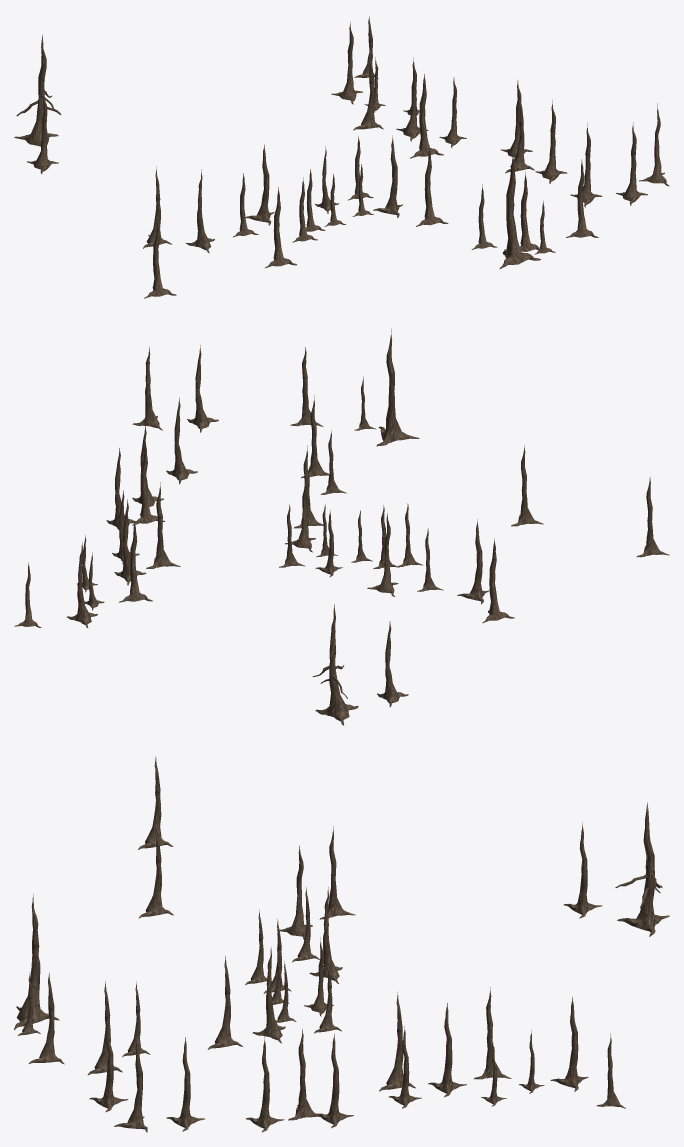
The model's file is songshugan_01.FBX.
3 renders of one model, top to bottom at view 1: azimuth 30°, elevation 25°; view 2: azimuth 150°, elevation 25°; view 3: azimuth 270°, elevation 25°, orthographic. The views are drawn at different scales.
Visible parts, largest first — view 1: Object045; view 2: Object045; view 3: Object045.
Part boxes in pixels (left/top/right/bottom): Object045: left=14, top=16, right=669, bottom=298; Object045: left=14, top=328, right=669, bottom=725; Object045: left=14, top=756, right=669, bottom=1132.
Size of the model in its own units: 11180 by 2707 by 10439.
